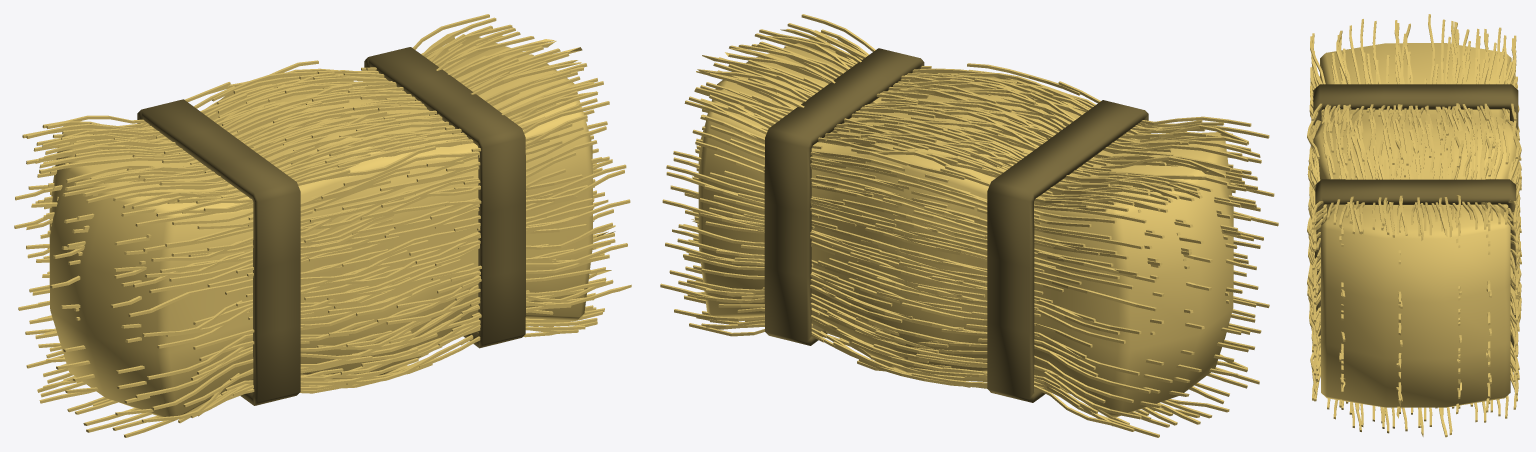
Rendered from balya.fbx.
3 renders of one model, left to right at view 1: azimuth 30°, elevation 25°; view 2: azimuth 150°, elevation 25°; view 3: azimuth 270°, elevation 25°, orthographic. The views are drawn at different scales.
Parts seen in each view (by area): view 1: Cube.076, Cube.001, Cube.002; view 2: Cube.076, Cube.001, Cube.002; view 3: Cube.076, Cube.002, Cube.001.
Part boxes in pixels (<box>): Cube.076: <box>14,14,631,437</box>; Cube.001: <box>137,99,300,405</box>; Cube.002: <box>364,47,525,348</box>; Cube.076: <box>660,14,1278,437</box>; Cube.001: <box>987,100,1148,402</box>; Cube.002: <box>764,48,924,345</box>; Cube.076: <box>1307,14,1521,437</box>; Cube.002: <box>1315,179,1516,371</box>; Cube.001: <box>1313,84,1518,135</box>.
Bounding box in the file's own units: 609 × 244 × 235.
